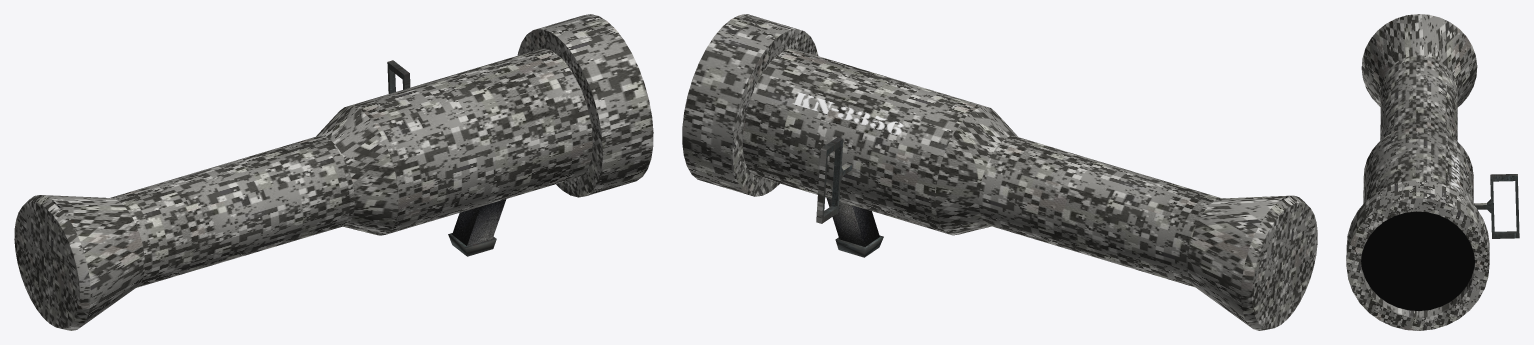
Rendered from launcher_000006.obj.
3 renders of one model, left to right at view 1: azimuth 30°, elevation 25°; view 2: azimuth 150°, elevation 25°; view 3: azimuth 270°, elevation 25°, orthographic. The views are drawn at different scales.
Parts seen in each view (by area): view 1: Cylinder; view 2: Cylinder; view 3: Cylinder.
Boxes of the visible parts, left/top/right/bottom form: Cylinder: left=14, top=14, right=653, bottom=330; Cylinder: left=682, top=14, right=1317, bottom=330; Cylinder: left=1346, top=14, right=1519, bottom=330.
Bounding box in the file's own units: 8.81 × 2.92 × 2.83.
Materials: 1 (1 with a texture image).
